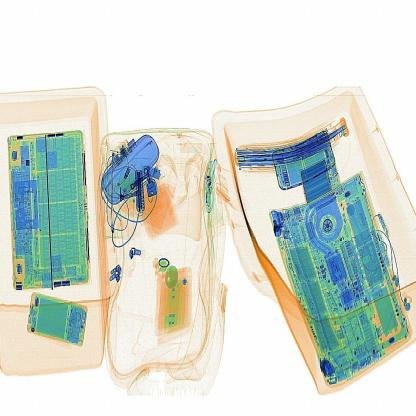scissors: (132, 156, 164, 216)
